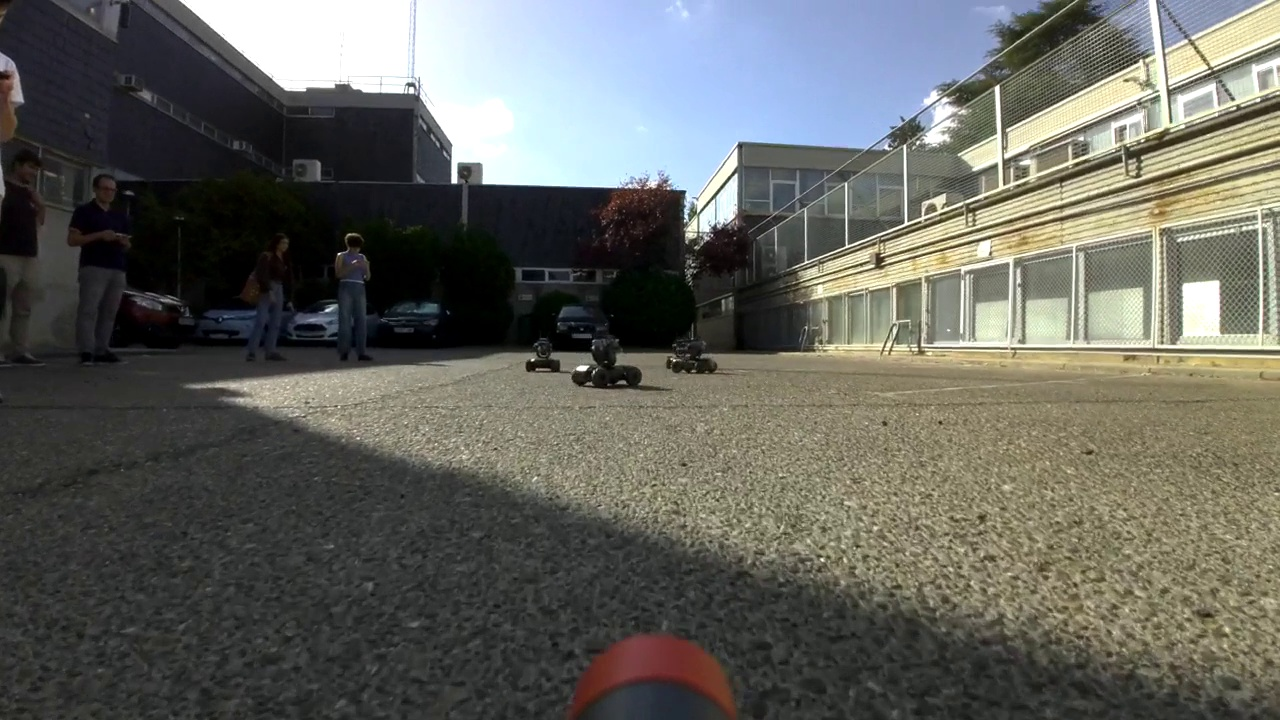robot: (573, 326, 644, 391), (668, 332, 717, 376), (529, 331, 561, 374)
